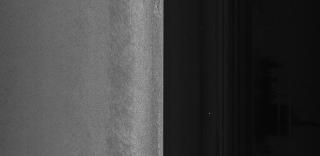silk spot: (108, 60, 136, 106)
